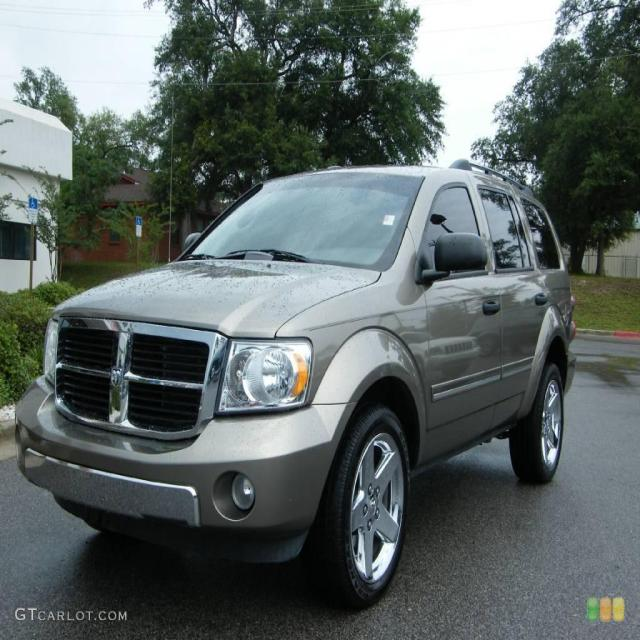Car: (14, 124, 594, 588)
